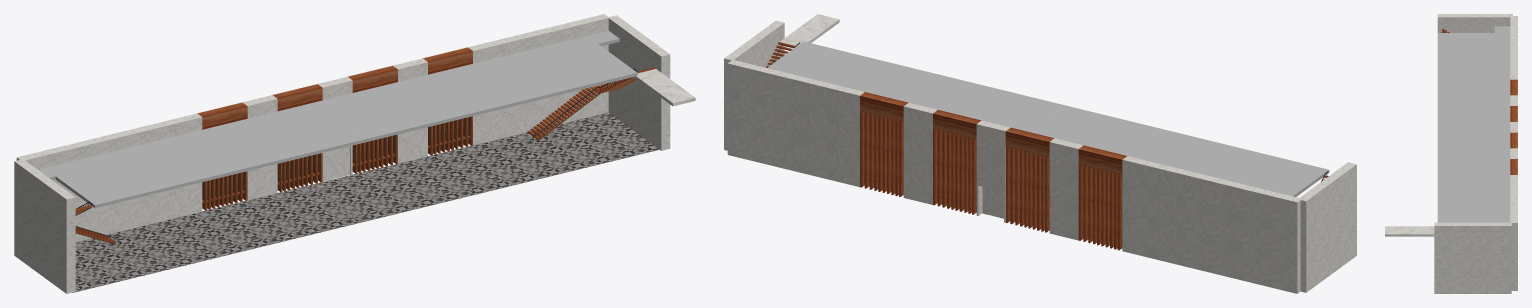
The model's file is LobbyZoneX.fbx.
3 views of the same model, side by side, from view 1: azimuth 30°, elevation 25°; view 2: azimuth 150°, elevation 25°; view 3: azimuth 270°, elevation 25° (orthographic). The views are drawn at different scales.
Parts seen in each view (by area): view 1: ZXM_Wood_Wall1; view 2: ZXM_Wood_Wall1; view 3: ZXM_Wood_Wall1.
Boxes of the visible parts, x1,y1,x2,y2 form: ZXM_Wood_Wall1: [14, 14, 695, 293]; ZXM_Wood_Wall1: [724, 14, 1356, 293]; ZXM_Wood_Wall1: [1385, 14, 1517, 293].
Bounding box in the file's own units: 200 × 30.75 × 53.02.
1 material, 1 textured.
